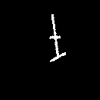double_crochet: (50, 14, 65, 61)
